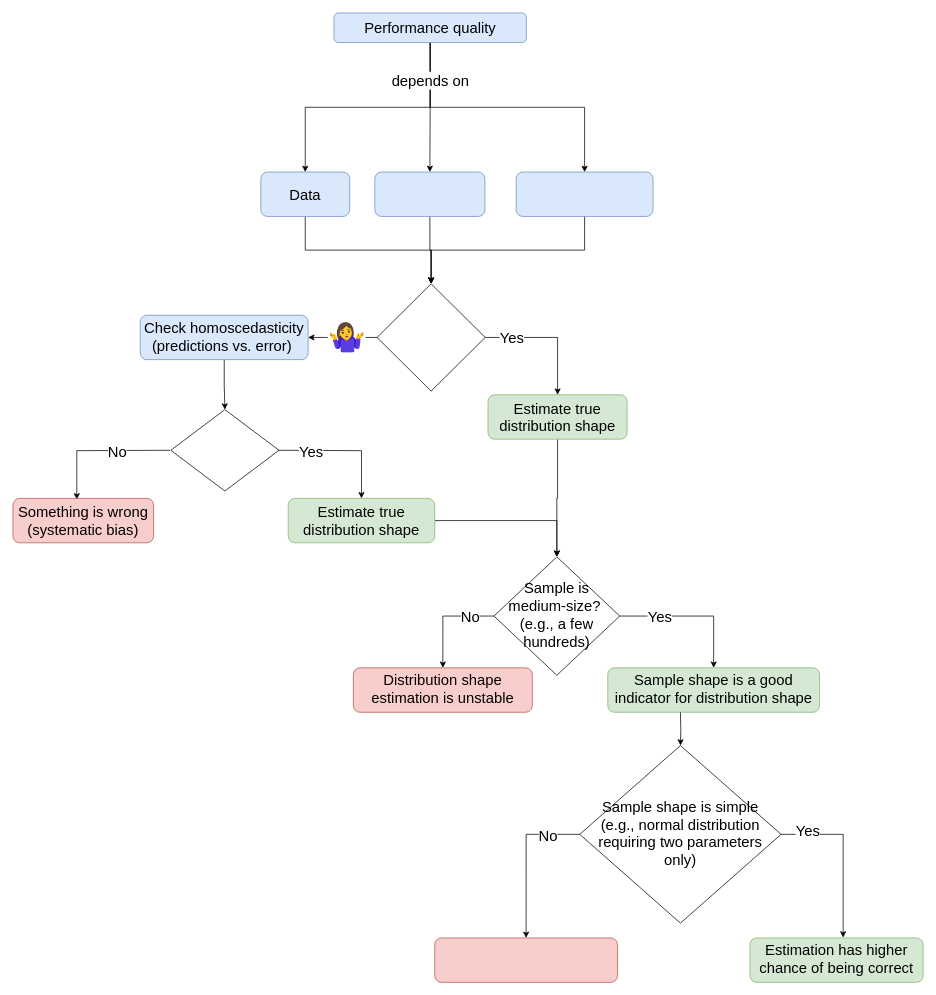
Some shapes in this 936 by 995 pixel diagram are drawn without their labels. The shapes that lost their labels are listed below. From the top down, each one's centre as x and y in pixels, then its label:
the point at 429,193: Representation
the point at 584,193: Model's rationale
the point at 430,337: Models is a good fit for the representation?
the point at 224,450: Trend is random?
the point at 525,959: Estimation is harderd to conclude with confidence
